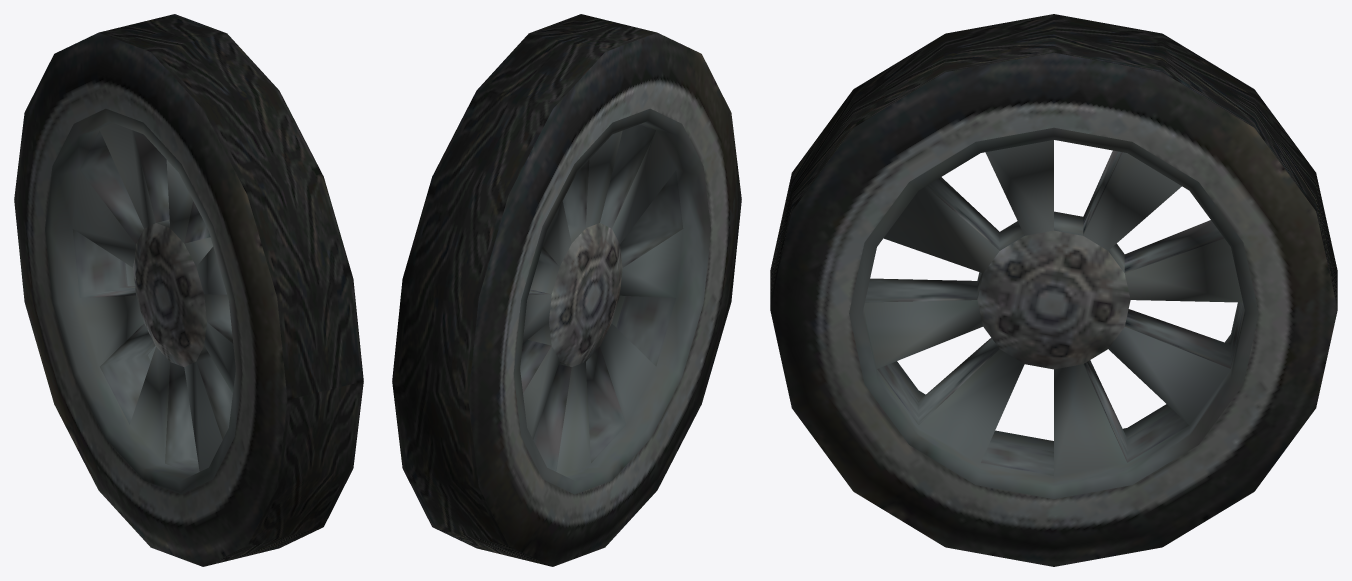
Rendered from scooter_wheel.obj.
The picture shows the model from 3 angles, left to right: view 1: azimuth 30°, elevation 25°; view 2: azimuth 150°, elevation 25°; view 3: azimuth 270°, elevation 25°; orthographic projection. The views are drawn at different scales.
Visible parts, largest first — view 1: Cylinder_Cylinder.003; view 2: Cylinder_Cylinder.003; view 3: Cylinder_Cylinder.003.
Boxes of the visible parts, x1,y1,x2,y2 form: Cylinder_Cylinder.003: (14, 14, 363, 566); Cylinder_Cylinder.003: (392, 14, 741, 566); Cylinder_Cylinder.003: (770, 14, 1337, 566).
Size of the model in its own units: 0.4 by 2 by 2.
1 material, 1 textured.
